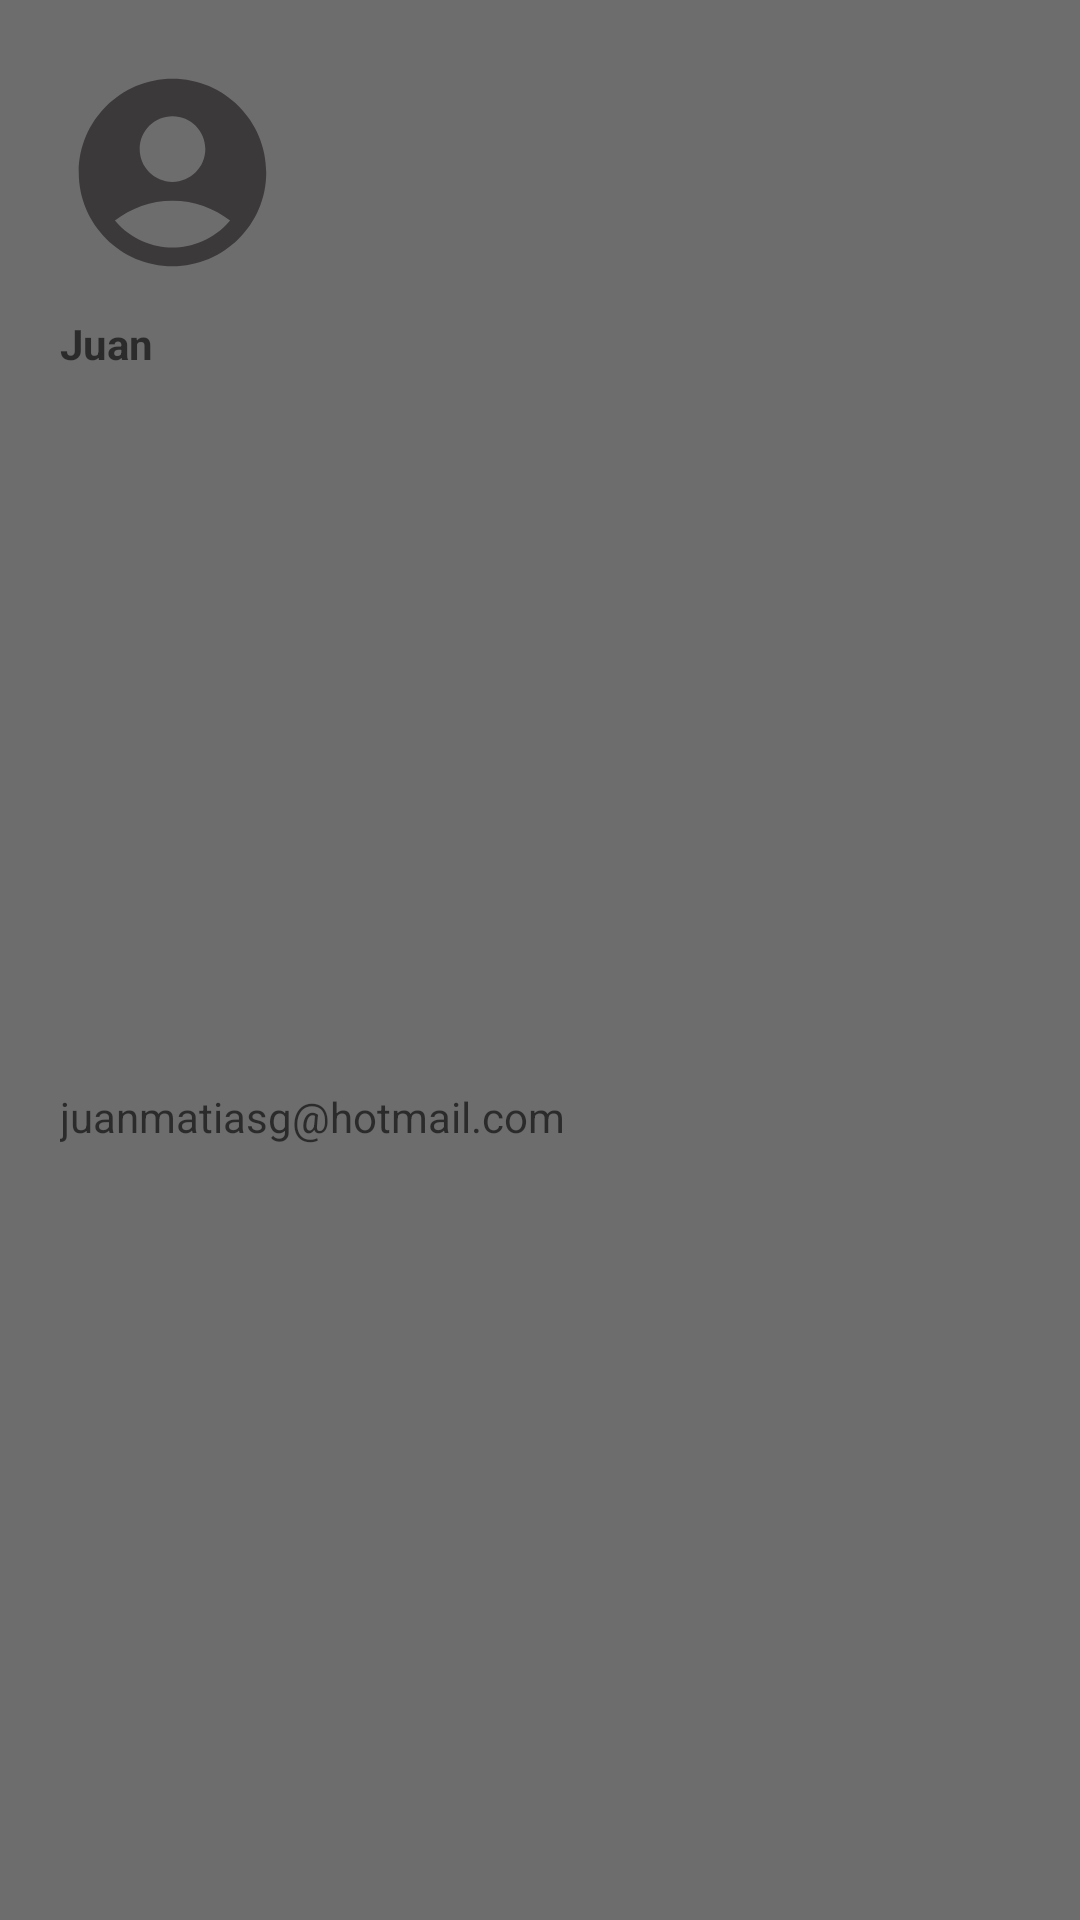

Named icons in this screenshot (1080*1920) and their bounding boxes, (x1, y1, x2, y2):
account circle: (79, 79, 266, 266)
